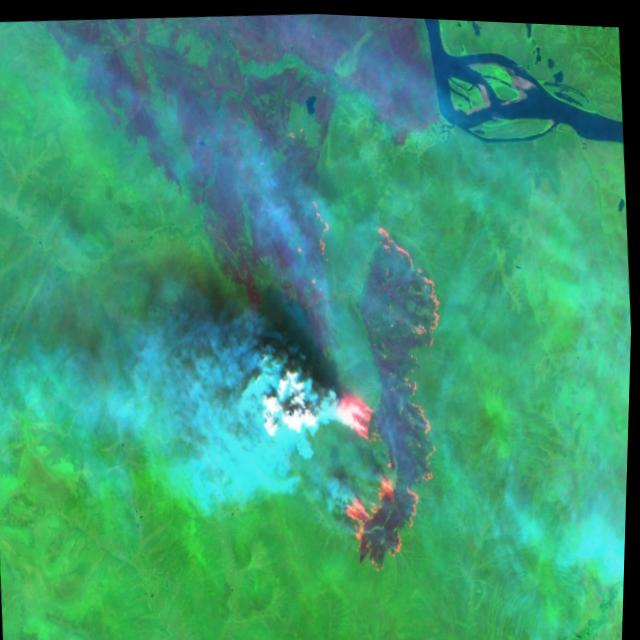fire: (294, 183, 471, 580)
